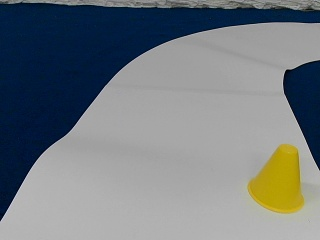cone: (248, 146, 304, 212)
